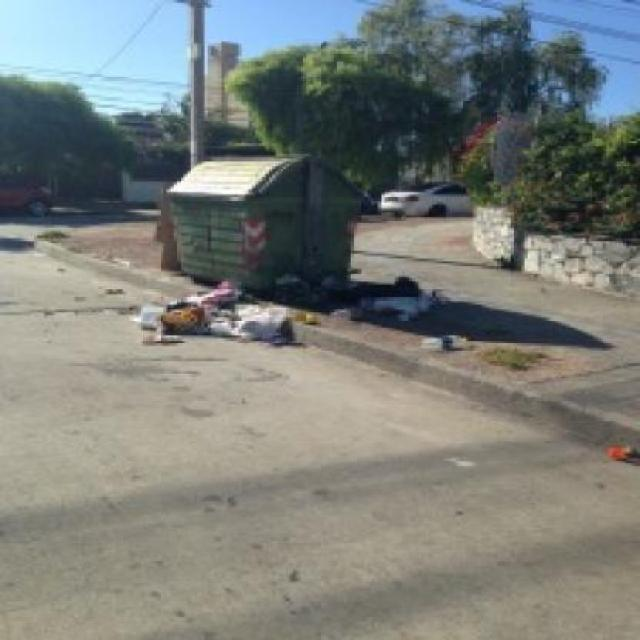garbage: (112, 285, 296, 346), (423, 328, 580, 374), (345, 274, 460, 312)
